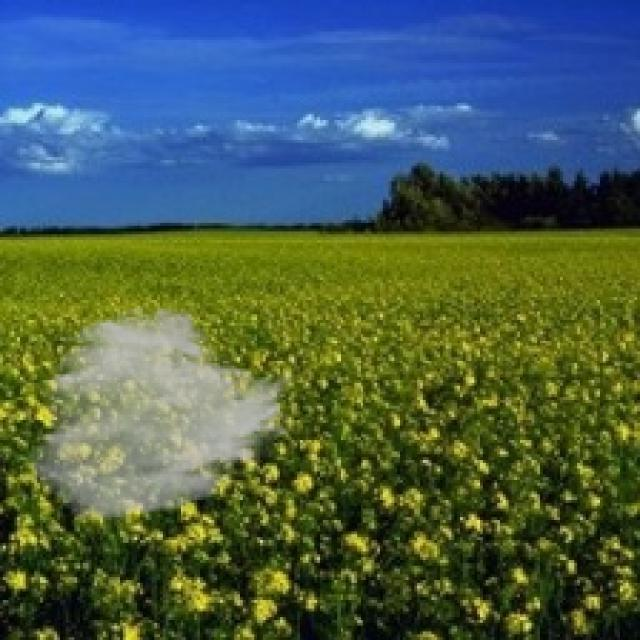Smoke: (26, 303, 300, 523)
